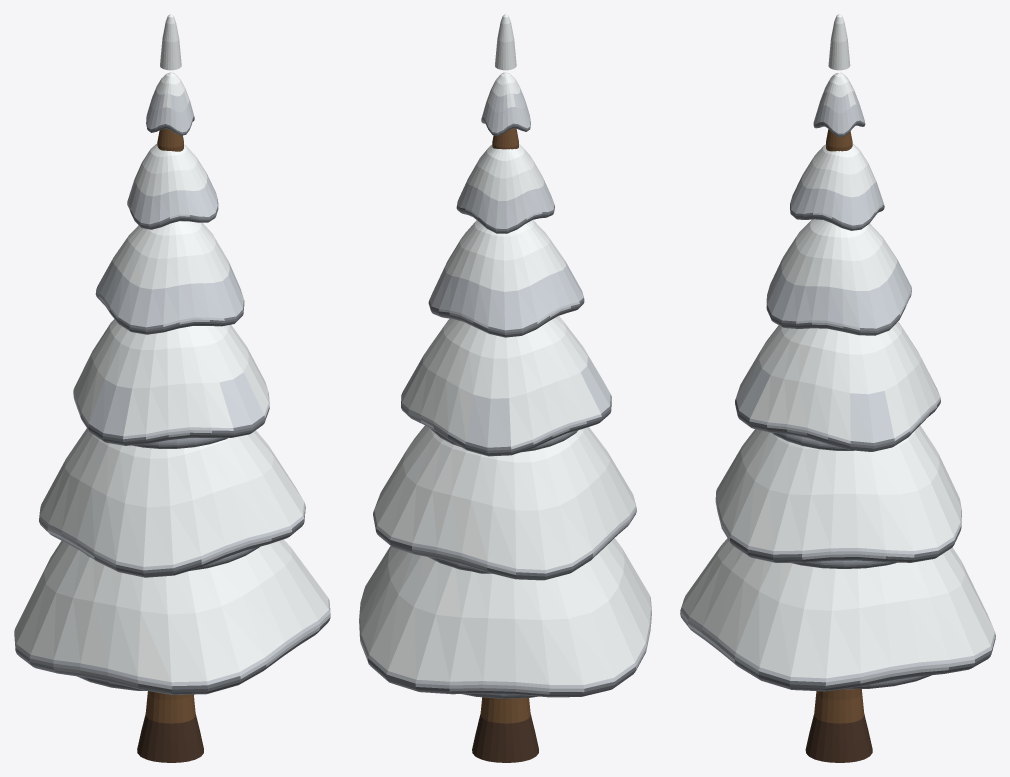
The model's file is SnowPine.obj.
The picture shows the model from 3 angles, left to right: view 1: azimuth 30°, elevation 25°; view 2: azimuth 150°, elevation 25°; view 3: azimuth 270°, elevation 25°; orthographic projection.
Bounding box in the file's own units: 6.36 × 16.35 × 6.36.
